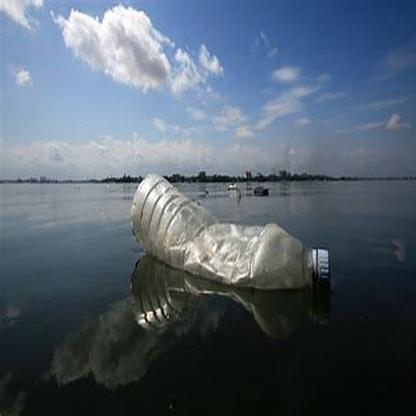plastic bottle: (131, 174, 331, 287)
